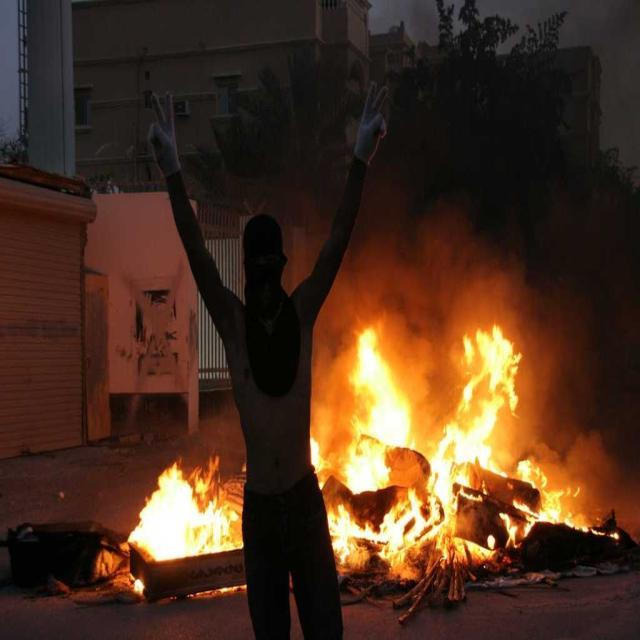Fire: (455, 336, 515, 439), (356, 361, 394, 444), (155, 501, 198, 547)
Smoke: (377, 188, 470, 312)
